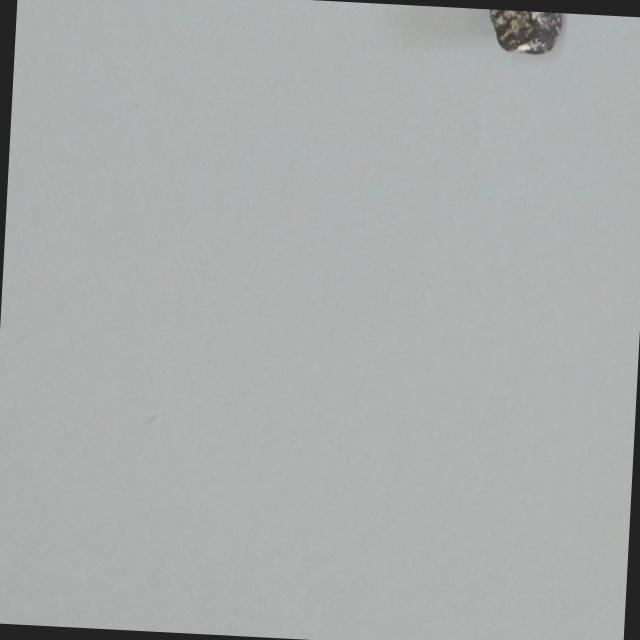cuerpos_extranos: (470, 8, 572, 70)
